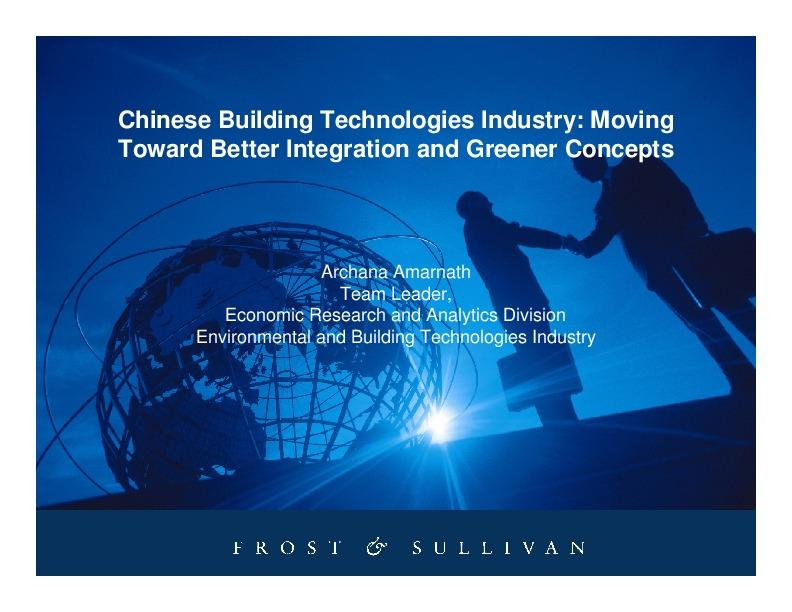paragraph: (155, 240, 654, 398)
title: (101, 90, 688, 196)
